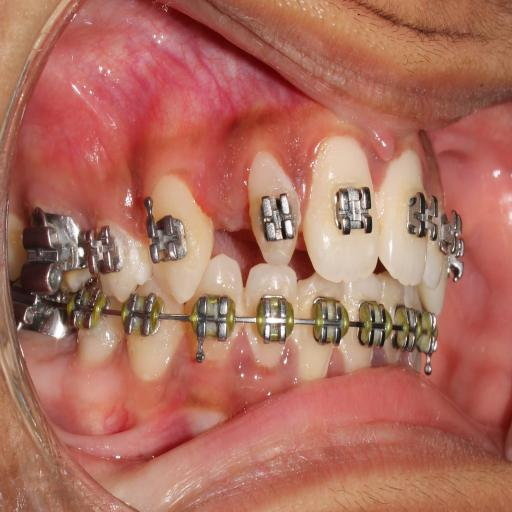correct_brace: (142, 198, 196, 270), (327, 177, 375, 242), (252, 292, 298, 352), (254, 189, 298, 249)
incorrect_brace: (240, 141, 302, 266), (245, 259, 299, 381)
